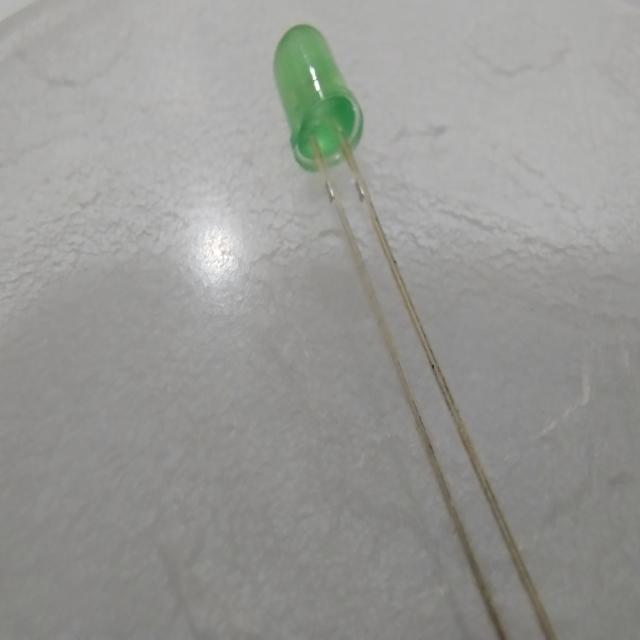green_led: (257, 12, 370, 175)
